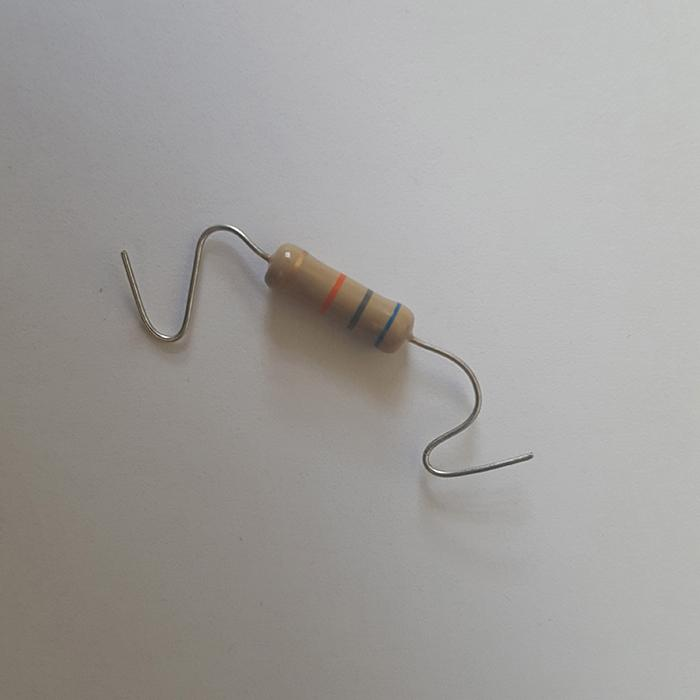resistor: (263, 242, 410, 351)
